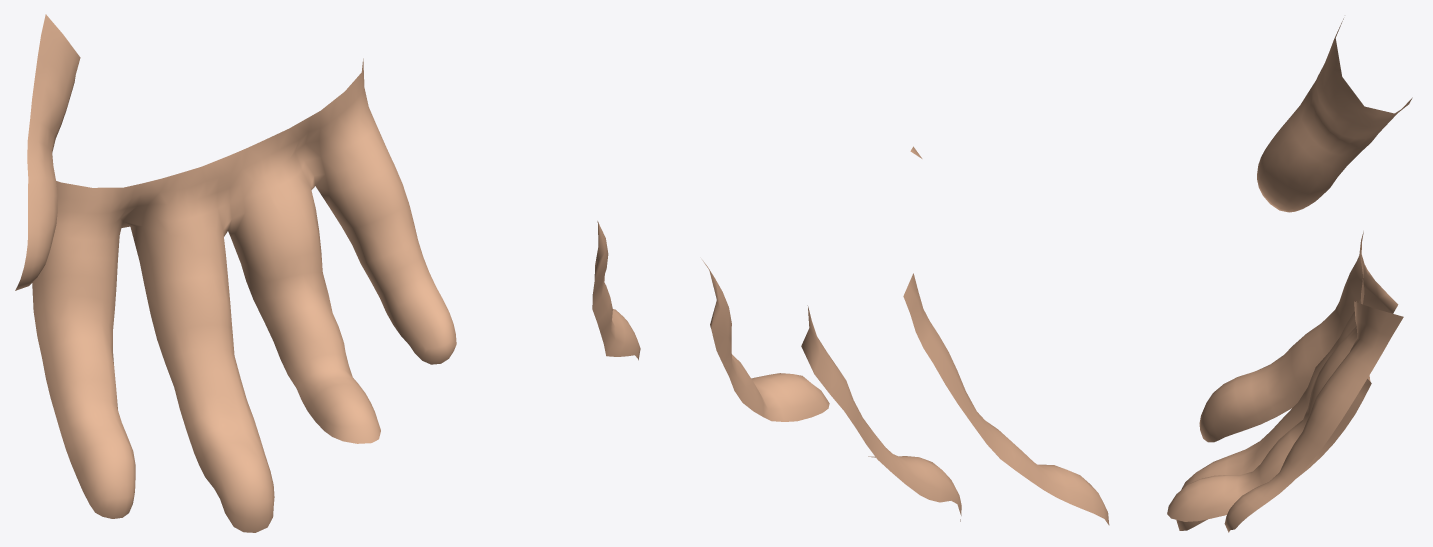
The model's file is palmar-surfaces-of-digits-of-hand-r.glb.
3 renders of one model, left to right at view 1: azimuth 30°, elevation 25°; view 2: azimuth 150°, elevation 25°; view 3: azimuth 270°, elevation 25°, orthographic. The views are drawn at different scales.
Visible parts, largest first — view 1: Palmar surfaces of digits of hand.r; view 2: Palmar surfaces of digits of hand.r; view 3: Palmar surfaces of digits of hand.r.
Boxes of the visible parts, x1,y1,x2,y2 form: Palmar surfaces of digits of hand.r: (15, 14, 456, 532); Palmar surfaces of digits of hand.r: (592, 146, 1109, 525); Palmar surfaces of digits of hand.r: (1167, 18, 1412, 532).
Bounding box in the file's own units: 0.1116 × 0.1205 × 0.0602.
